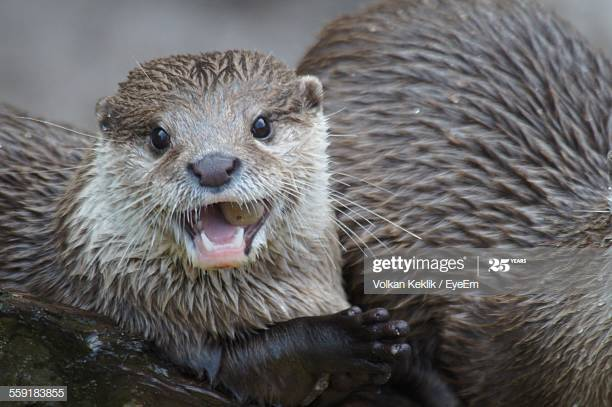otter: (61, 38, 363, 328)
